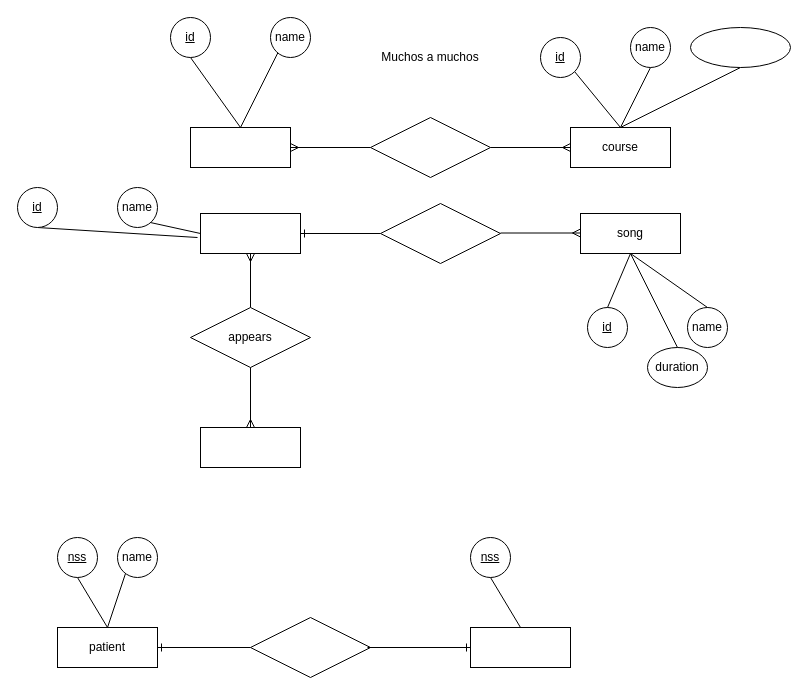
Some shapes in this 808 by 695 pixel diagram are drawn without their labels. The centre of each missing label's shape, as x and y in pixels:
"album" belongs at point (250, 233).
"band" belongs at point (250, 447).
"has" belongs at point (310, 647).
"includes" belongs at point (440, 233).
"medical_history" belongs at point (520, 647).
"starting_date" belongs at point (740, 47).
"teacher" belongs at point (240, 147).
"teaches" belongs at point (430, 147).
